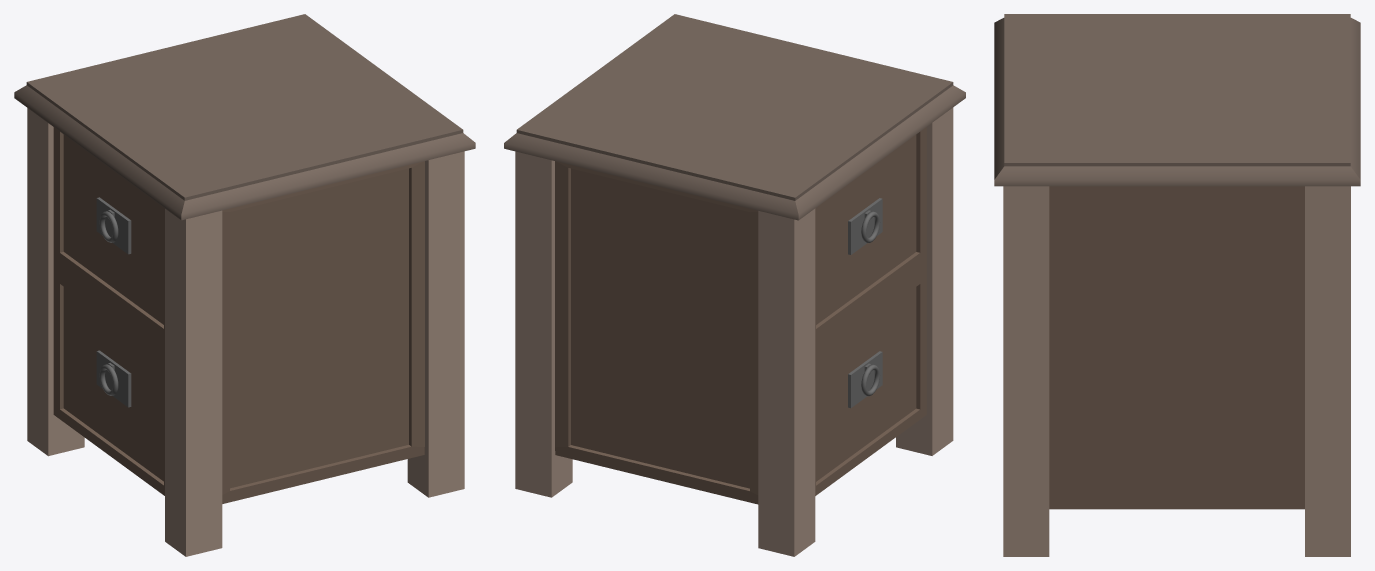
The model's file is Bedside_Table.fbx.
3 views of the same model, side by side, from view 1: azimuth 30°, elevation 25°; view 2: azimuth 150°, elevation 25°; view 3: azimuth 270°, elevation 25° (orthographic). The views are drawn at different scales.
Parts seen in each view (by area): view 1: pCube329; view 2: pCube329; view 3: pCube329.
Part boxes in pixels (x1,y1,x2,y2): pCube329: (14,14,475,556); pCube329: (504,14,965,556); pCube329: (994,14,1360,556).
Bounding box in the file's own units: 3.21 × 3.74 × 3.16.
